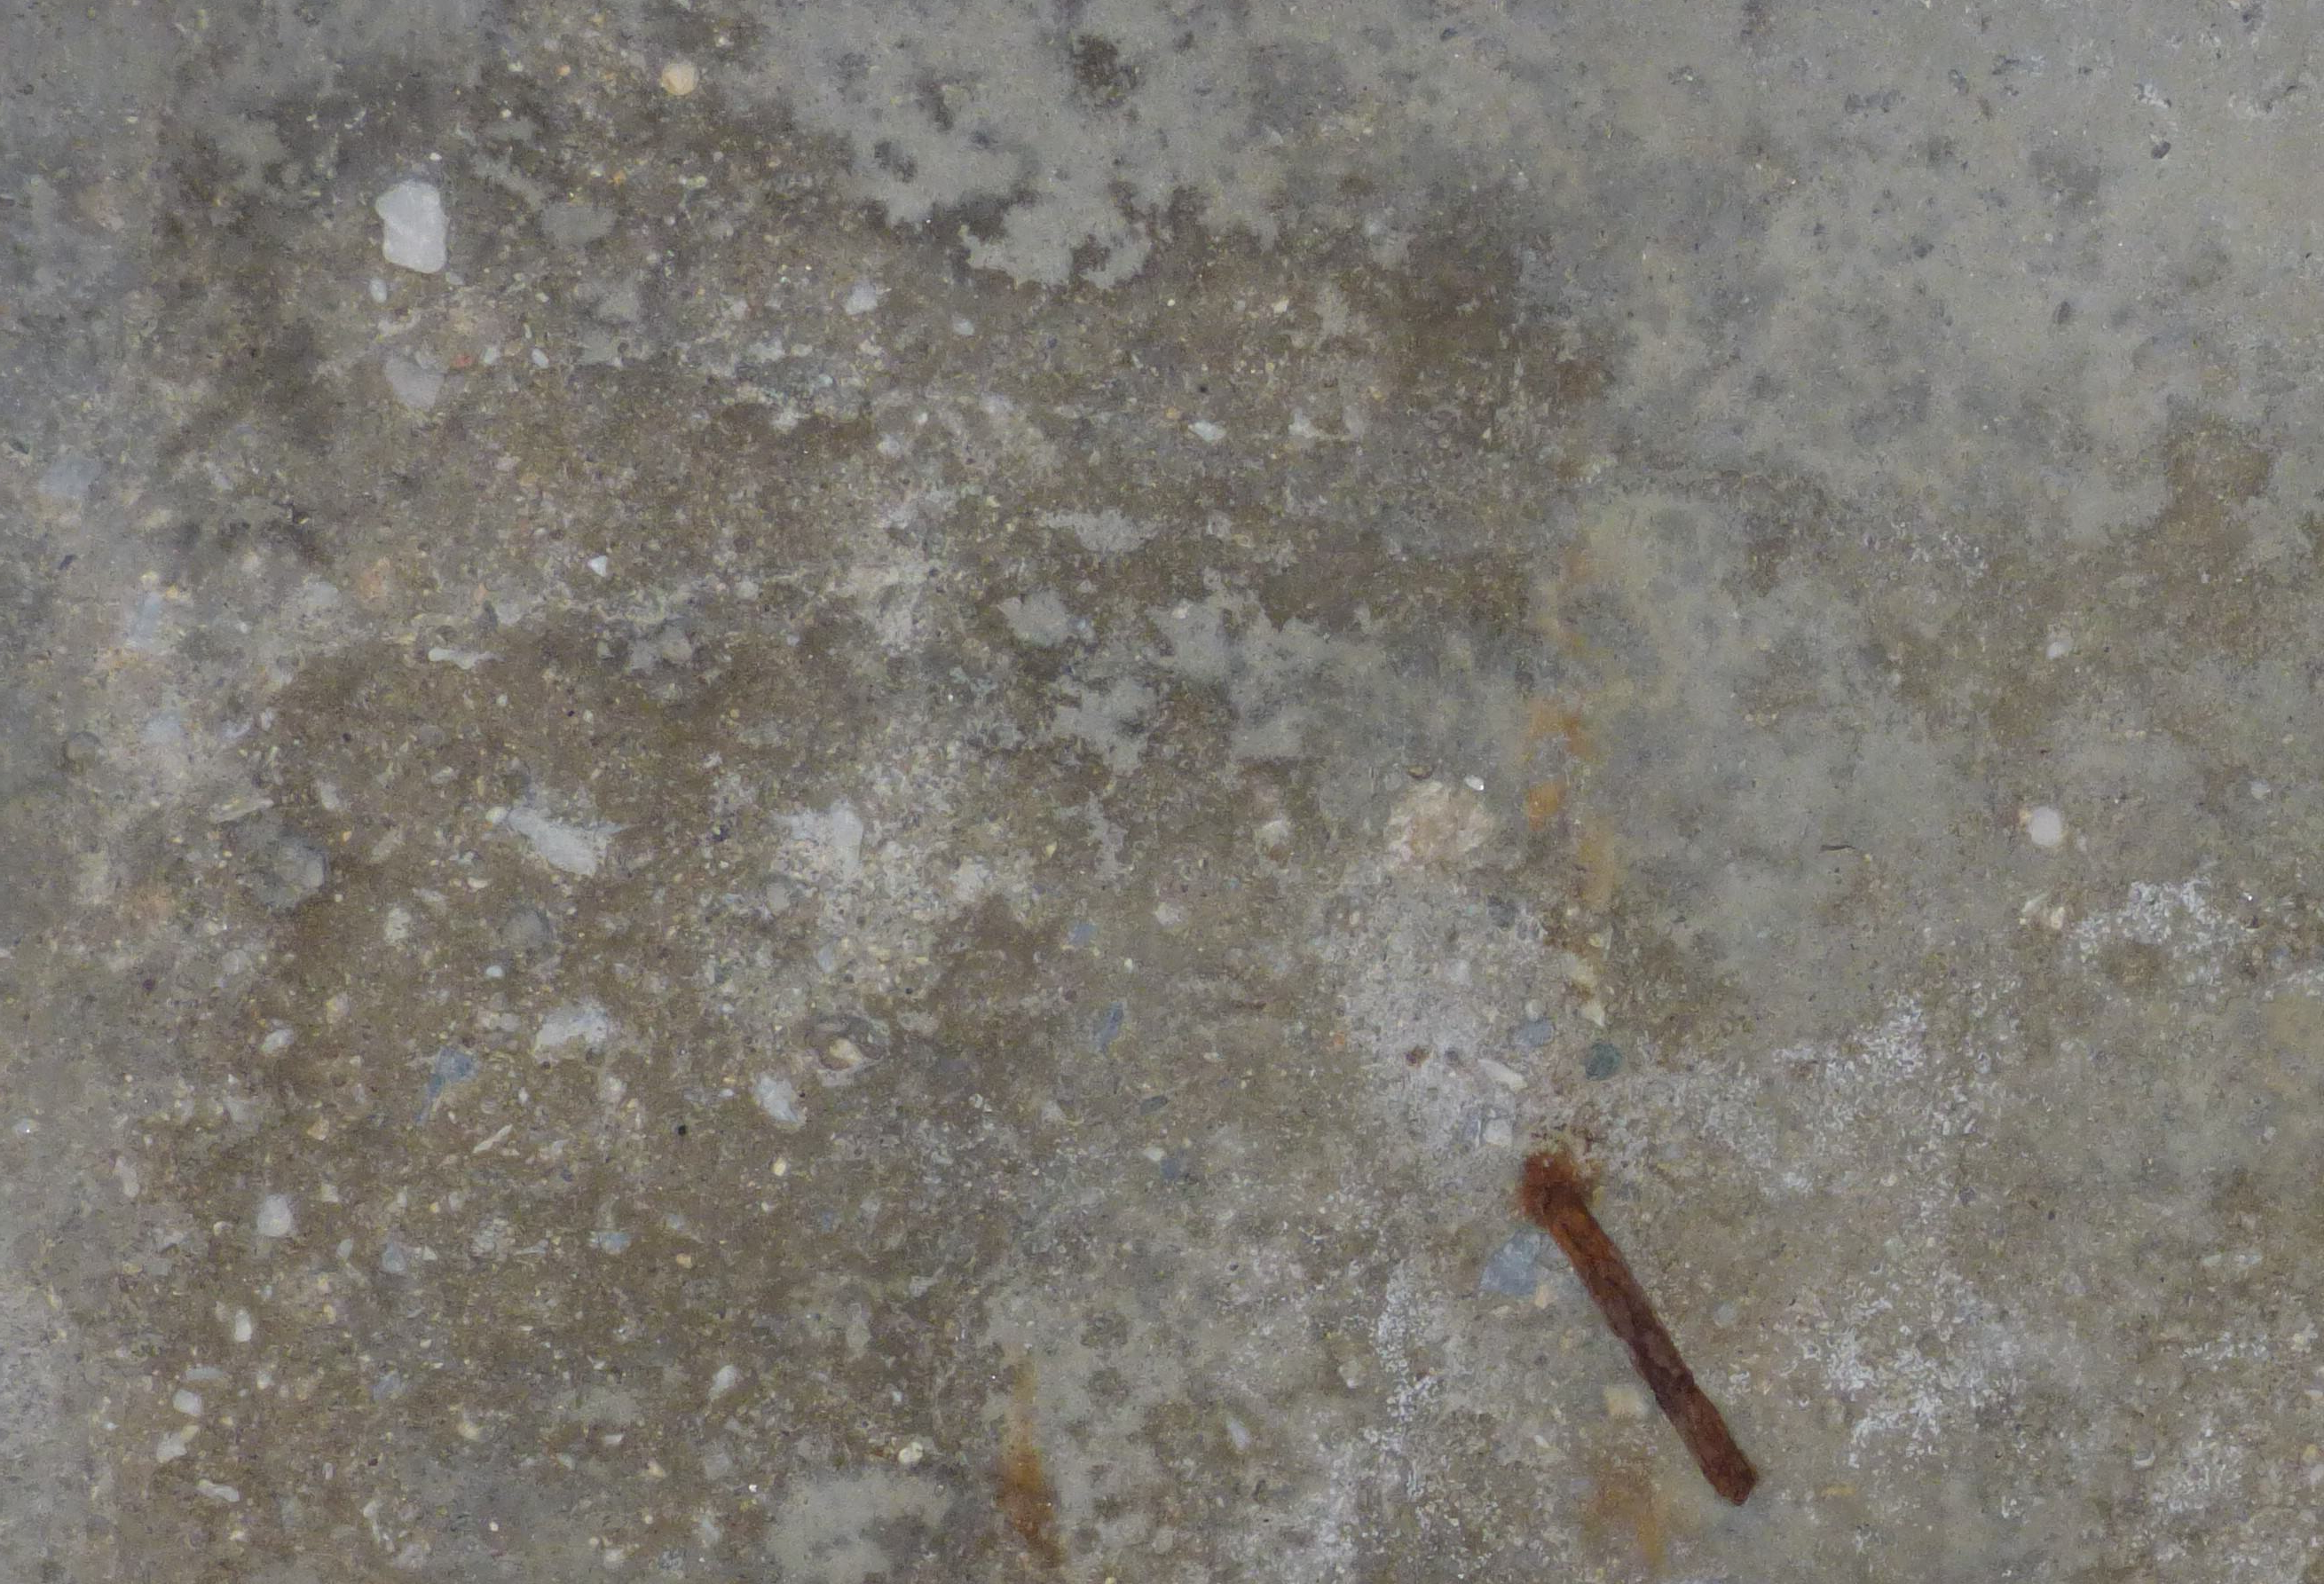Corrosion: (1517, 1151, 1595, 1226)
Exposed reinforcement: (1543, 1183, 1755, 1506)
